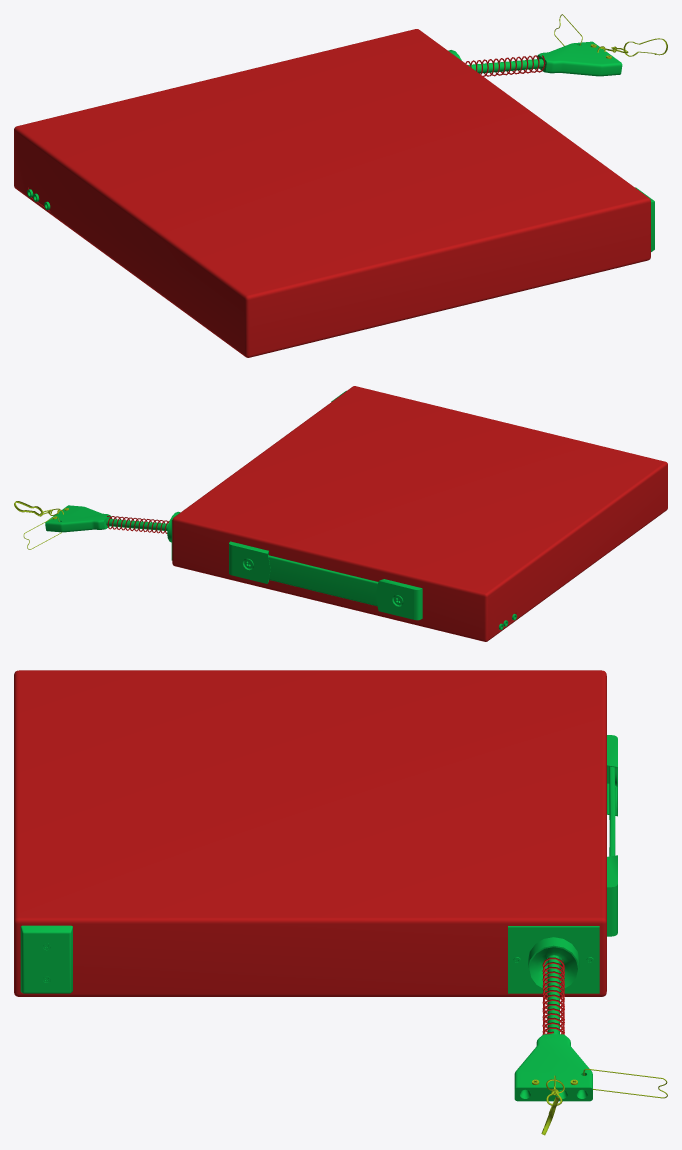
File: katushka.glb
3 renders of one model, top to bottom at view 1: azimuth 30°, elevation 25°; view 2: azimuth 150°, elevation 25°; view 3: azimuth 270°, elevation 25°, orthographic. The views are drawn at different scales.
Parts seen in each view (by area): view 1: Box017, Object038; view 2: Box017, Object038, Object037; view 3: Box017, Object038, Object037.
Part boxes in pixels (x1,y1,x2,y2): Box017: (14, 29, 650, 357); Object038: (27, 41, 654, 251); Box017: (107, 386, 667, 641); Object038: (45, 390, 516, 629); Object037: (14, 501, 68, 549); Box017: (14, 670, 606, 1034); Object038: (20, 735, 617, 1101); Object037: (532, 1068, 667, 1135).
Bounding box in the file's own units: 0.5303 × 0.0538 × 0.3751.
